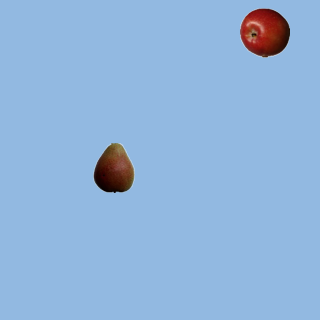Apple Braeburn: (239, 7, 289, 57)
Pear Forelle: (88, 142, 138, 192)
